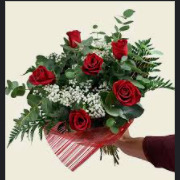RedRose: (112, 77, 141, 106), (26, 66, 57, 86), (68, 108, 92, 133), (81, 52, 103, 76), (111, 38, 128, 61), (66, 28, 82, 49)
